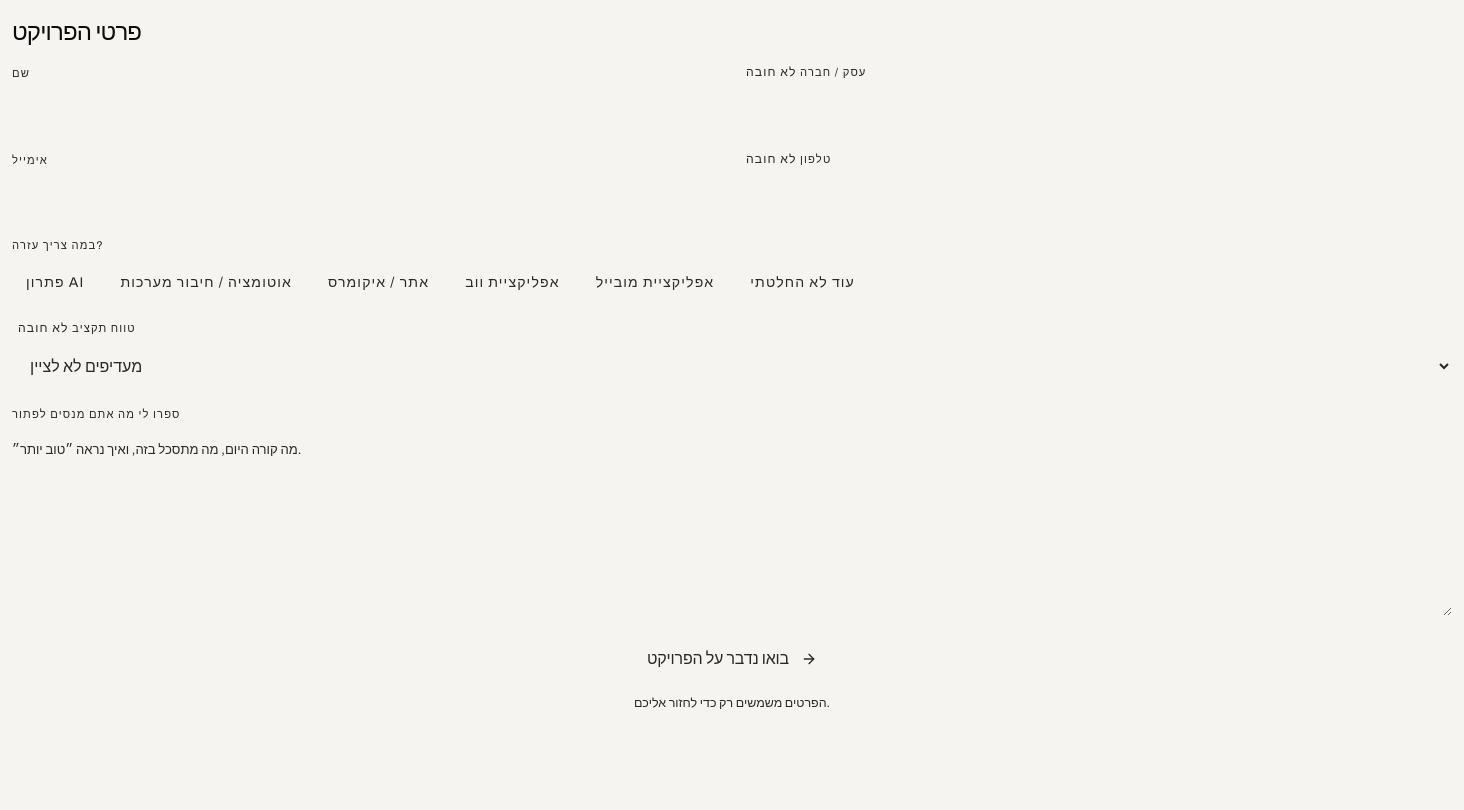
he uses its own plural form in the error summary
Click the button "בואו נדבר על הפרויקט": (732, 659) 12,634 -> 1452,684
(page scrolled)
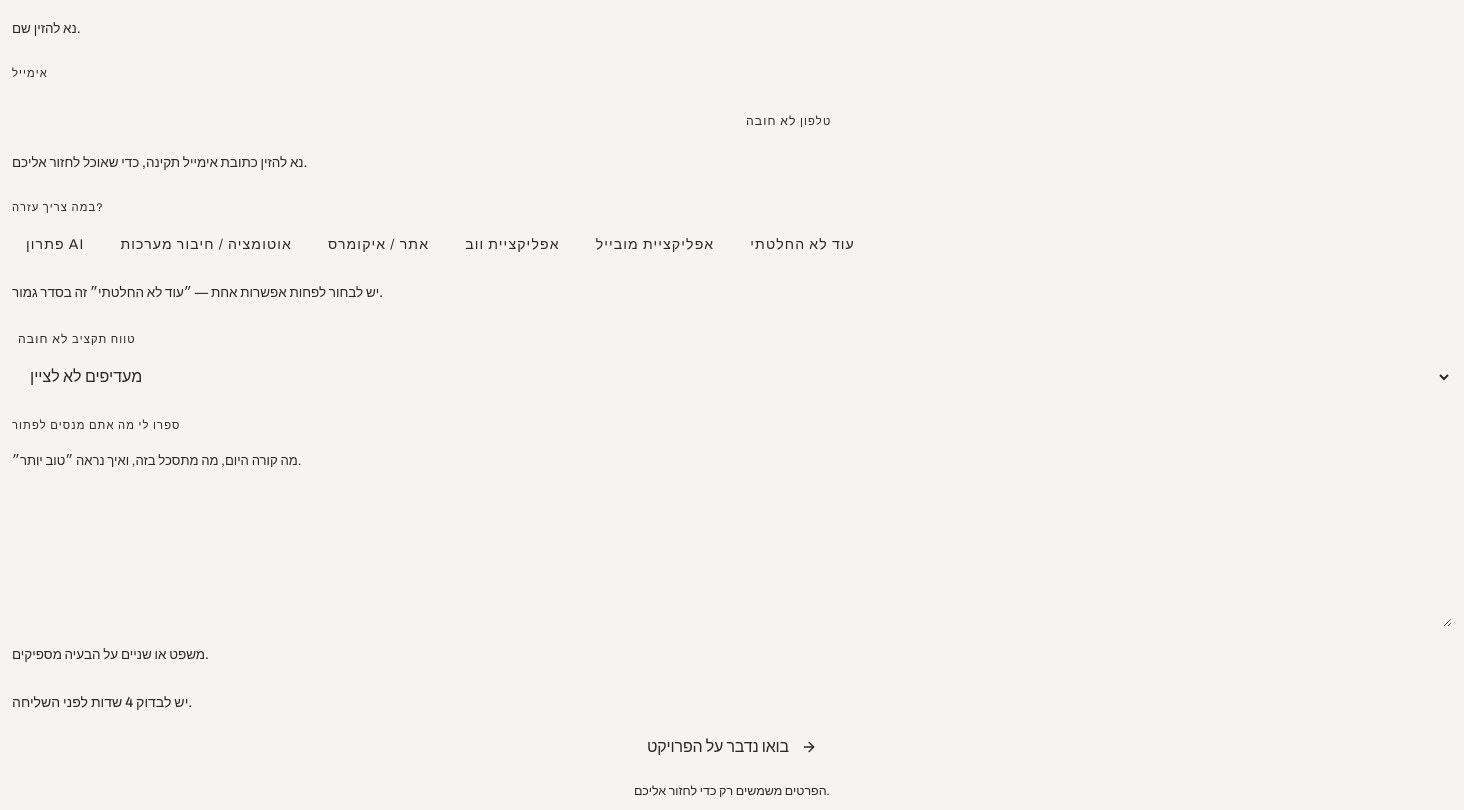
Result: the message reads "יש לבדוק 4 שדות לפני השליחה." at 12,695 -> 192,710
